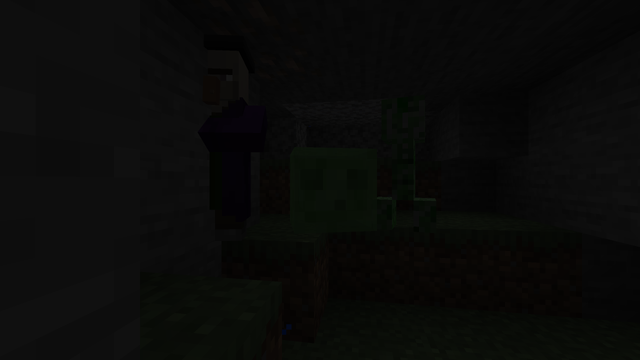creepers: (379, 87, 434, 232)
slimes: (279, 143, 366, 234)
sorcieres: (204, 36, 259, 247)
